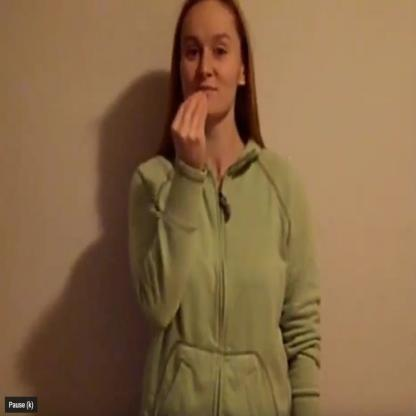Food: (131, 4, 284, 226)
